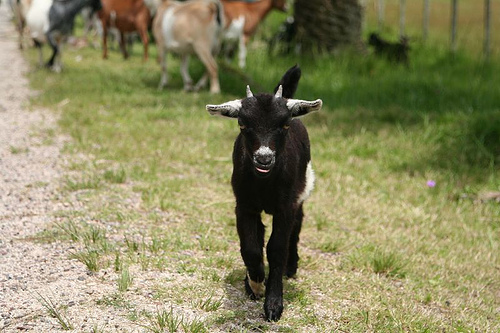goat: (206, 62, 325, 320), (144, 1, 221, 90), (21, 1, 101, 69), (219, 1, 290, 69), (91, 1, 151, 57)
